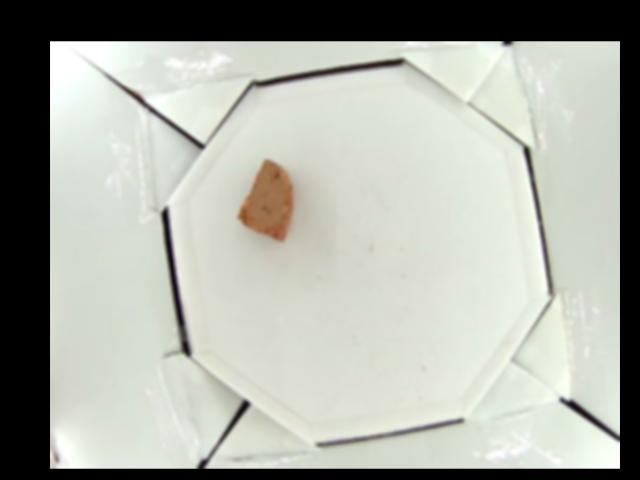Brisk: (236, 159, 292, 244)
